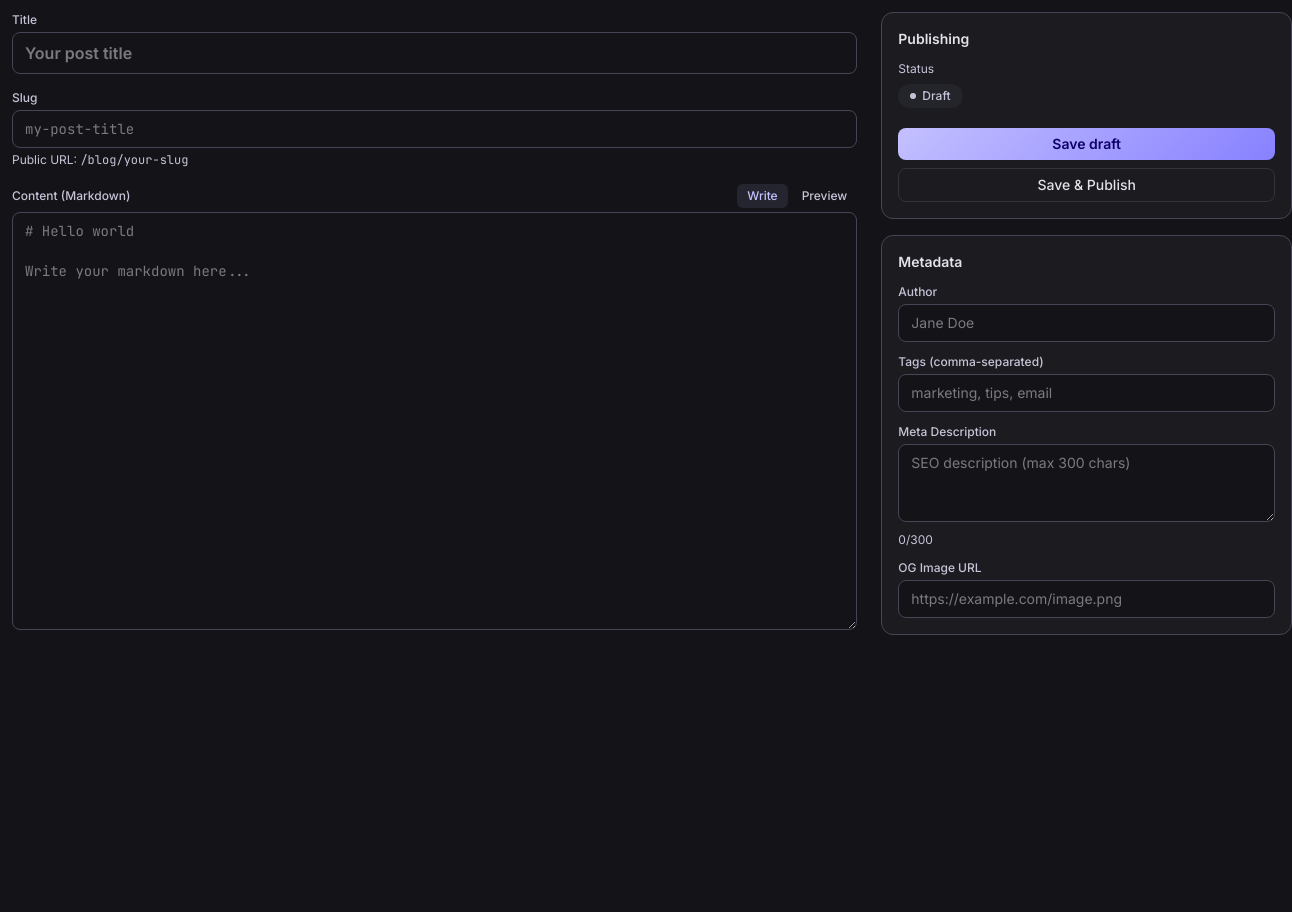
Test: BlogPostEditor › shows validation error when content is empty
Type "My Title" into the field labelled "Title" at (435, 53), box [12, 32, 857, 74]
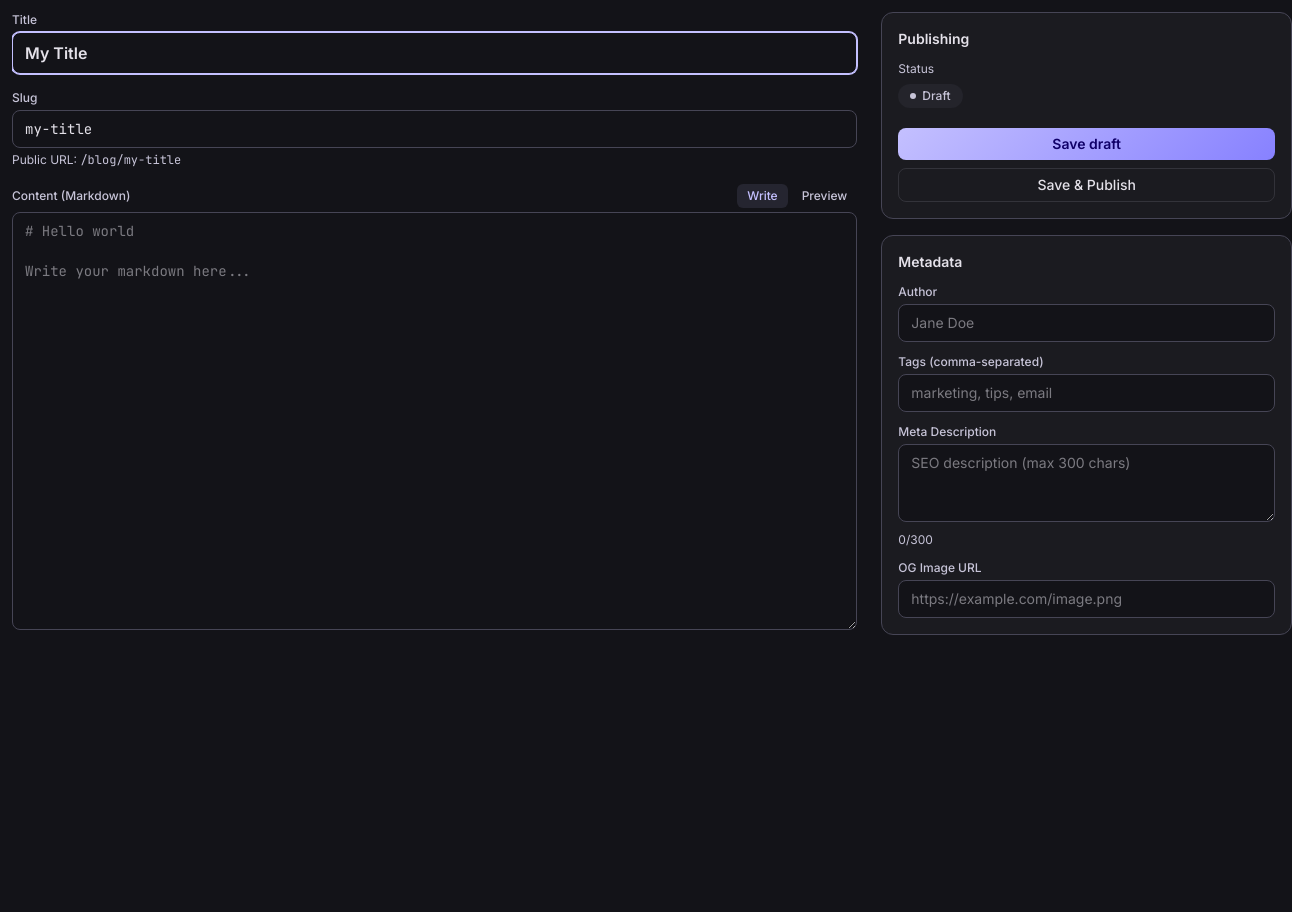
Click the button "Save draft" at (1087, 144), box [898, 128, 1275, 160]
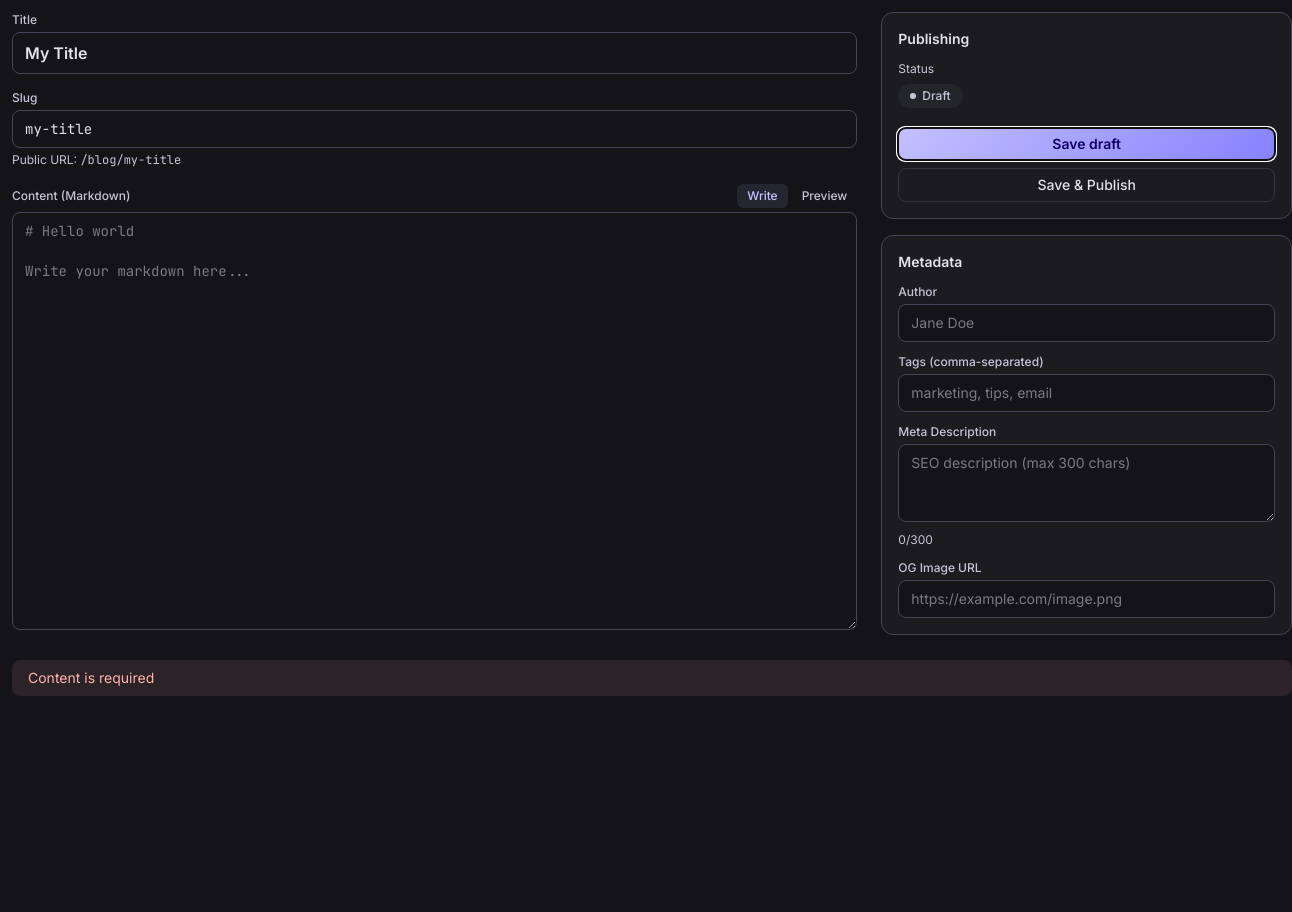
Check: the text "Content is required" is shown, box [12, 660, 1291, 696]
